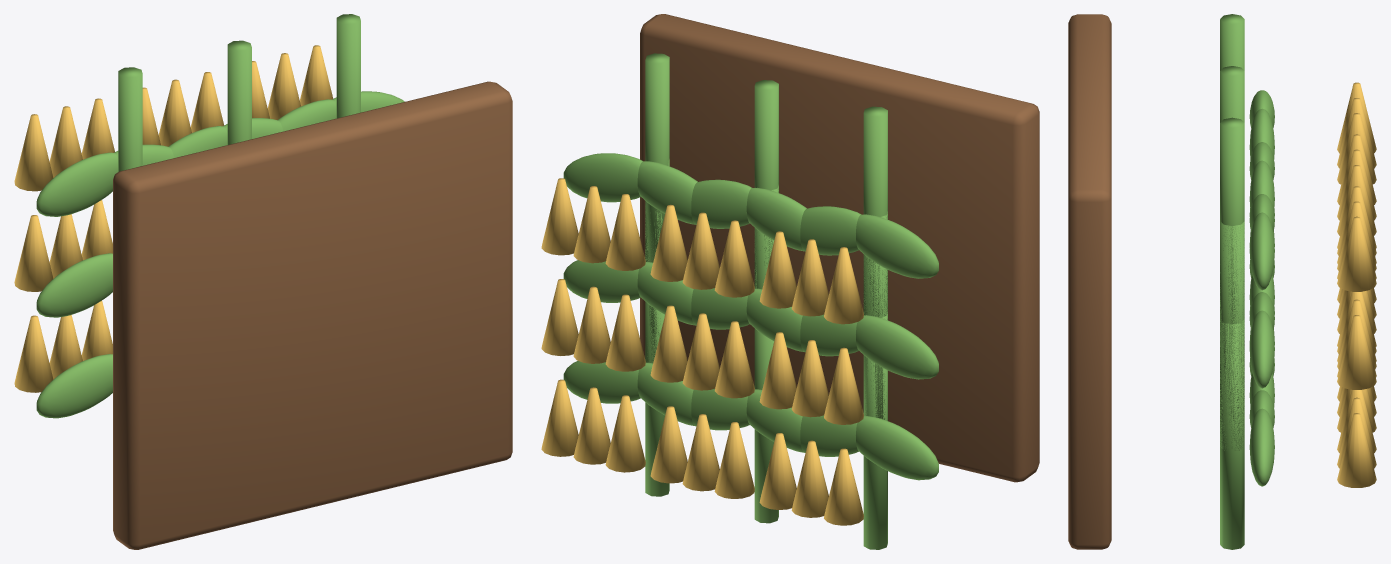
Rendered from wheat_ripe.glb.
3 views of the same model, side by side, from view 1: azimuth 30°, elevation 25°; view 2: azimuth 150°, elevation 25°; view 3: azimuth 270°, elevation 25° (orthographic). The views are drawn at different scales.
Parts seen in each view (by area): view 1: Soil, Leaf.004, Leaf.002, Leaf, Stem.005, Stem.008, Stem.002, Grain, Grain.006, Grain.003, Grain.007, Grain.016 (+13 smaller); view 2: Soil, Stem.008, Leaf.004, Leaf, Leaf.002, Stem.002, Stem, Leaf.017, Stem.005, Leaf.016, Leaf.010, Leaf.005 (+43 smaller); view 3: Soil, Stem.006, Stem.007, Stem.008, Grain.026, Grain.020, Grain.023, Leaf.013, Leaf.017, Leaf.015, Stem.005, Stem.002 (+21 smaller).
Part boxes in pixels (left/top/right/bottom): Soil: left=113, top=81, right=512, bottom=549; Leaf.004: left=36, top=152, right=118, bottom=216; Leaf.002: left=36, top=253, right=112, bottom=317; Leaf: left=36, top=354, right=112, bottom=418; Stem.005: left=227, top=40, right=251, bottom=144; Stem.008: left=336, top=14, right=360, bottom=118; Stem.002: left=118, top=67, right=142, bottom=171; Grain: left=14, top=315, right=53, bottom=392; Grain.006: left=14, top=114, right=53, bottom=191; Grain.003: left=14, top=215, right=53, bottom=291; Grain.007: left=49, top=106, right=82, bottom=177; Grain.016: left=158, top=79, right=191, bottom=146; Soil: left=640, top=14, right=1039, bottom=482; Stem.008: left=645, top=53, right=669, bottom=262; Leaf.004: left=856, top=214, right=938, bottom=278; Leaf: left=856, top=416, right=938, bottom=480; Leaf.002: left=856, top=315, right=938, bottom=379; Stem.002: left=863, top=106, right=887, bottom=319; Stem: left=863, top=312, right=887, bottom=549; Leaf.017: left=563, top=153, right=643, bottom=202; Stem.005: left=754, top=80, right=778, bottom=288; Leaf.016: left=637, top=161, right=697, bottom=224; Leaf.010: left=746, top=187, right=806, bottom=251; Leaf.005: left=800, top=206, right=861, bottom=255; Soil: left=1068, top=14, right=1111, bottom=549; Stem.006: left=1220, top=319, right=1244, bottom=549; Stem.007: left=1220, top=221, right=1244, bottom=450; Stem.008: left=1220, top=117, right=1244, bottom=353; Grain.026: left=1337, top=216, right=1376, bottom=291; Grain.020: left=1337, top=413, right=1376, bottom=487; Grain.023: left=1337, top=315, right=1376, bottom=389; Leaf.013: left=1249, top=408, right=1274, bottom=486; Leaf.017: left=1249, top=212, right=1274, bottom=290; Leaf.015: left=1249, top=310, right=1274, bottom=388; Stem.005: left=1220, top=66, right=1244, bottom=122; Stem.002: left=1220, top=14, right=1244, bottom=70.
Bounding box in the file's own units: 1.2 × 1.29 × 0.855.
